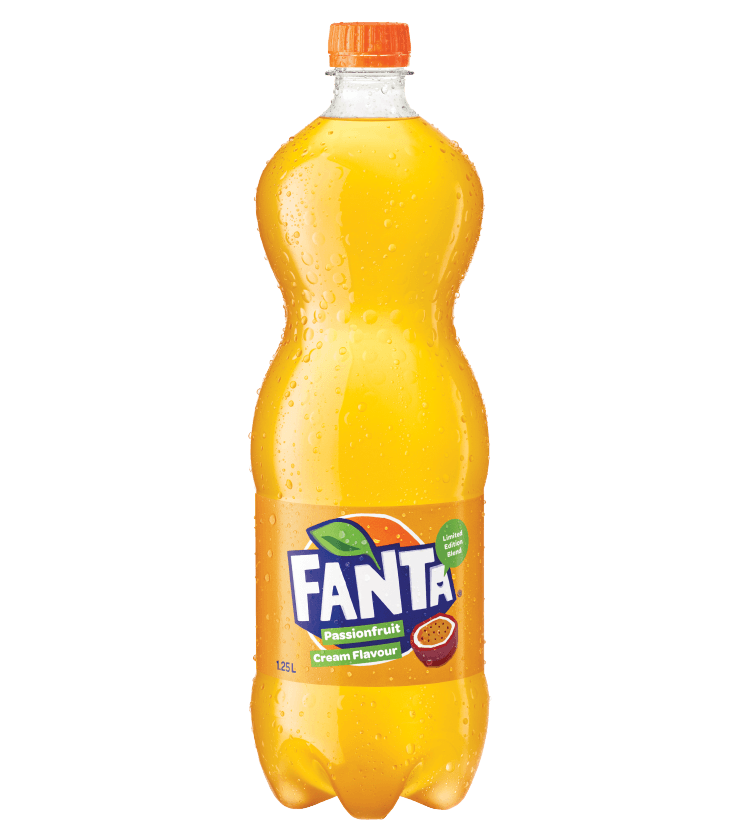Fanta: (193, 18, 540, 834)
